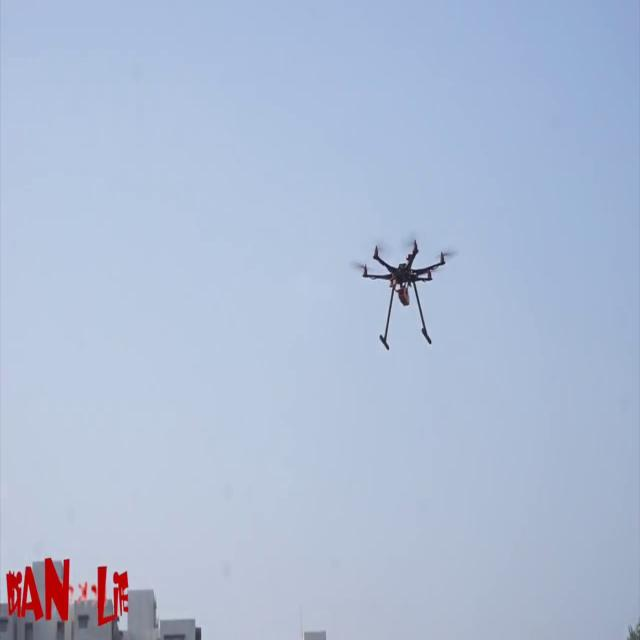drone: (348, 219, 472, 384)
